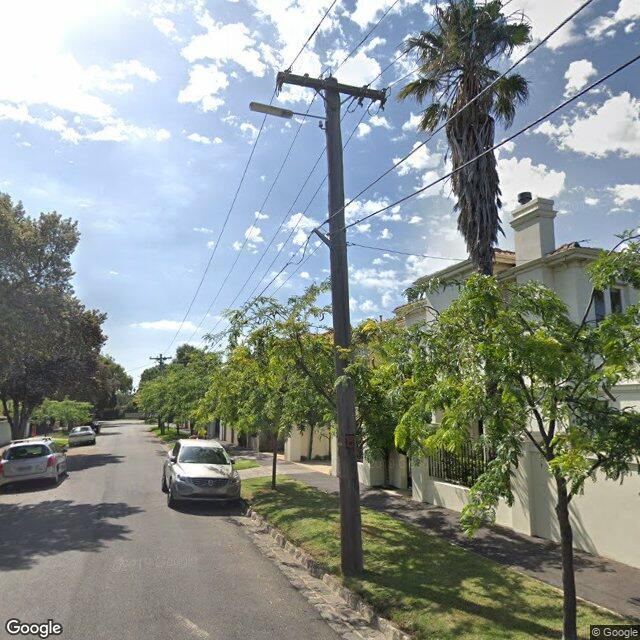crossarm: (277, 69, 390, 118), (150, 356, 172, 360)
streetlight: (250, 102, 327, 120)
timber-pole: (324, 77, 364, 577), (157, 354, 163, 429)
